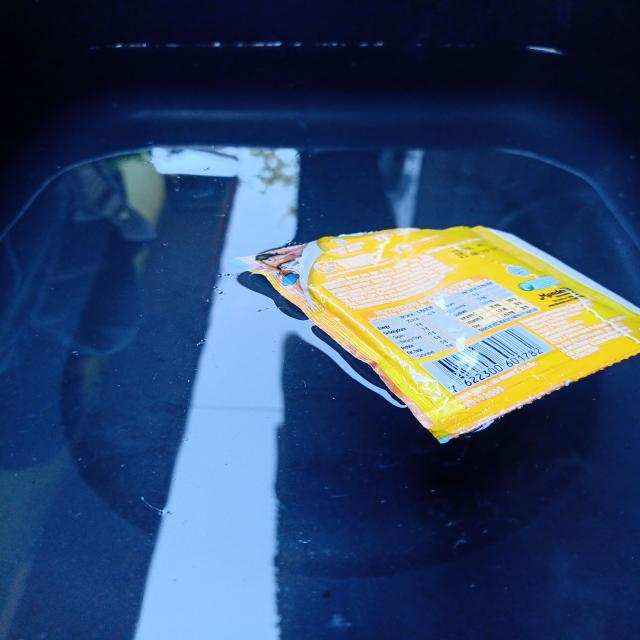Plastic Wrapper: (235, 221, 640, 448)
